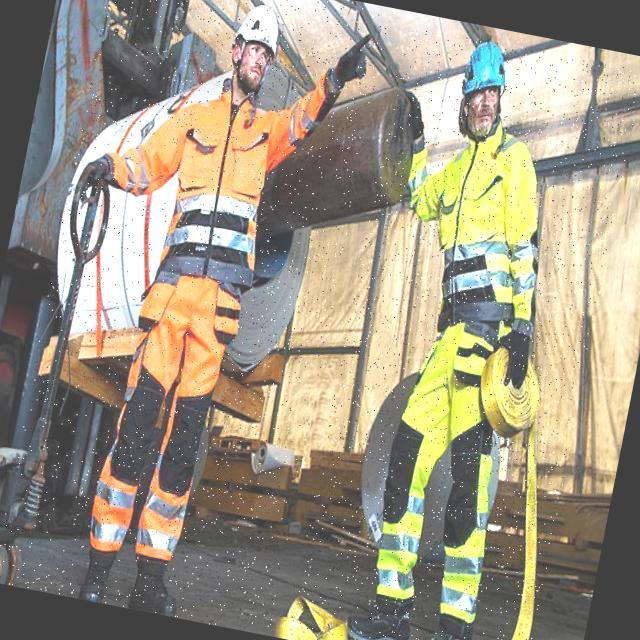boots: (125, 555, 185, 615), (341, 594, 417, 640), (76, 548, 116, 602), (416, 616, 482, 640)
gloves: (490, 328, 548, 394), (70, 142, 124, 210), (329, 26, 381, 95), (392, 90, 430, 146)
vest: (89, 35, 343, 302), (378, 107, 572, 346)
